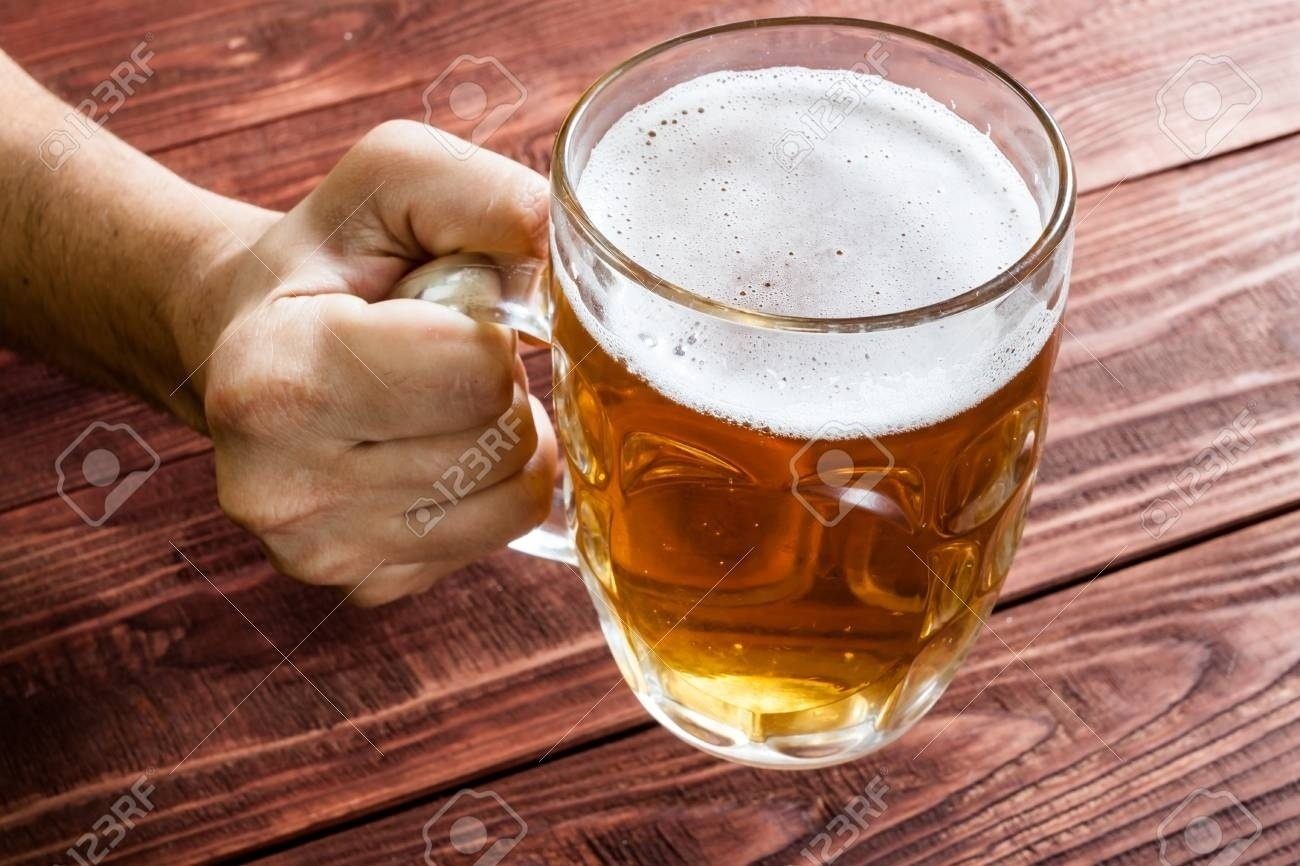whiskey: (569, 41, 1073, 744)
